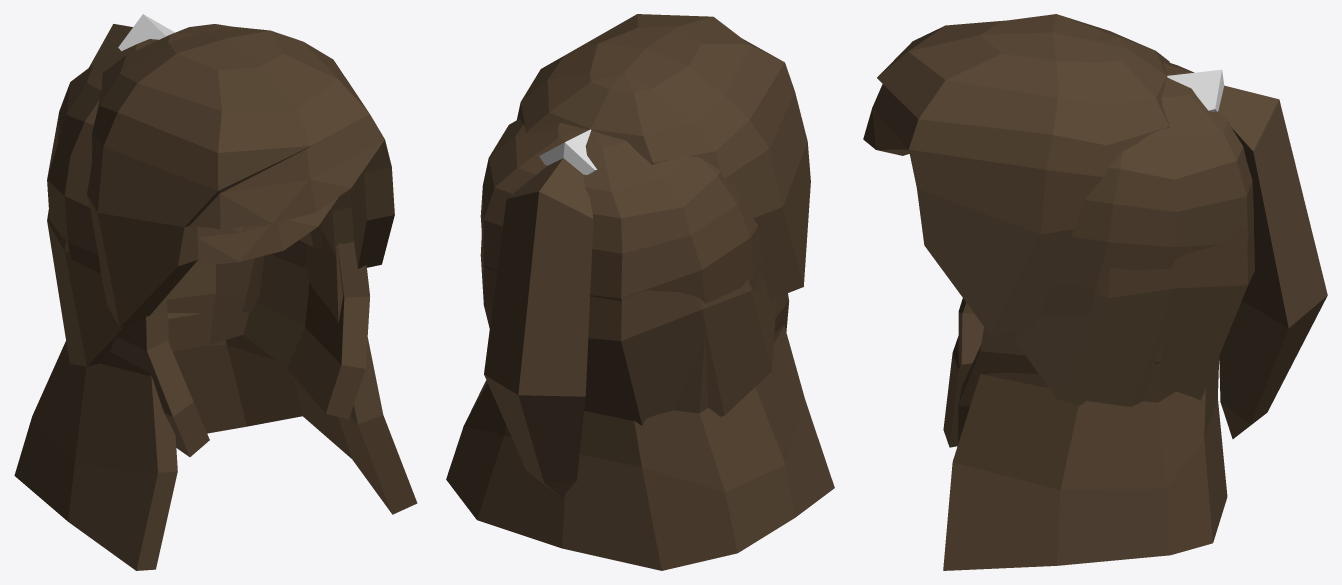
File: Female_Hairstyle_4.fbx
3 views of the same model, side by side, from view 1: azimuth 30°, elevation 25°; view 2: azimuth 150°, elevation 25°; view 3: azimuth 270°, elevation 25° (orthographic). The views are drawn at different scales.
Visible parts, largest first — view 1: Female_Hairstyle_4, Female_Hairstyle_2, Female_Hairstyle_1, Female_Hairstyle_3; view 2: Female_Hairstyle_4, Female_Hairstyle_2, Female_Hairstyle_1, Female_Hairstyle_3; view 3: Female_Hairstyle_4, Female_Hairstyle_2, Female_Hairstyle_1, Female_Hairstyle_3.
Part boxes in pixels (x1,y1,x2,y2): Female_Hairstyle_4: [87, 14, 394, 327]; Female_Hairstyle_2: [14, 199, 417, 570]; Female_Hairstyle_1: [47, 39, 369, 456]; Female_Hairstyle_3: [47, 188, 353, 366]; Female_Hairstyle_4: [484, 14, 810, 497]; Female_Hairstyle_2: [446, 241, 834, 570]; Female_Hairstyle_1: [480, 118, 789, 333]; Female_Hairstyle_3: [480, 234, 776, 425]; Female_Hairstyle_4: [863, 14, 1327, 438]; Female_Hairstyle_2: [943, 228, 1253, 570]; Female_Hairstyle_1: [958, 63, 1254, 442]; Female_Hairstyle_3: [1014, 225, 1254, 406].
Size of the model in its own units: 61.74 by 89.23 by 78.69.
